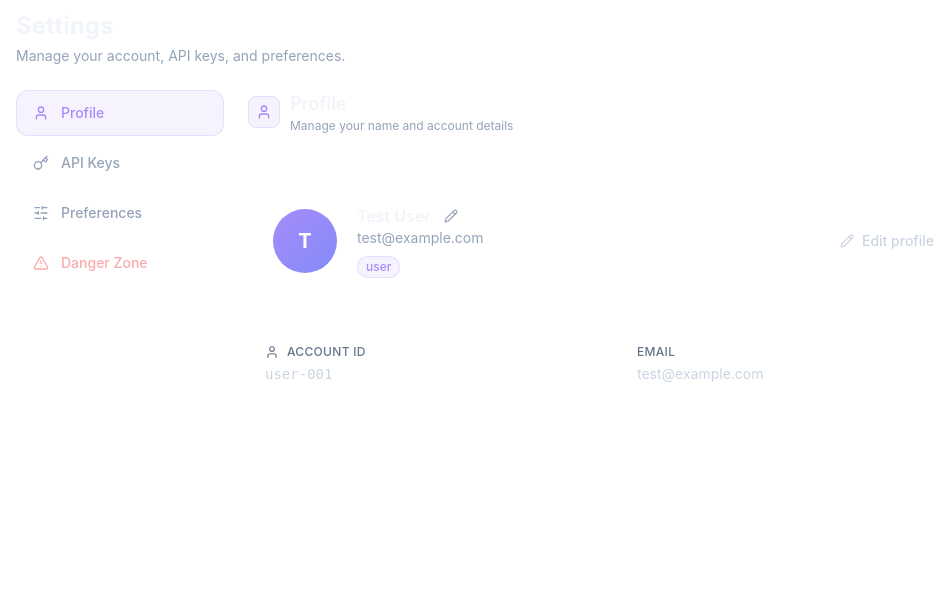
Test case: Preferences section › renders theme, page size, and notification options
The width and height of the screenshot is (951, 596).
What coordinates should you click on to do the following:
click the button "Preferences"
I would click on:
 (120, 213)
Its box is [16,190,224,236].
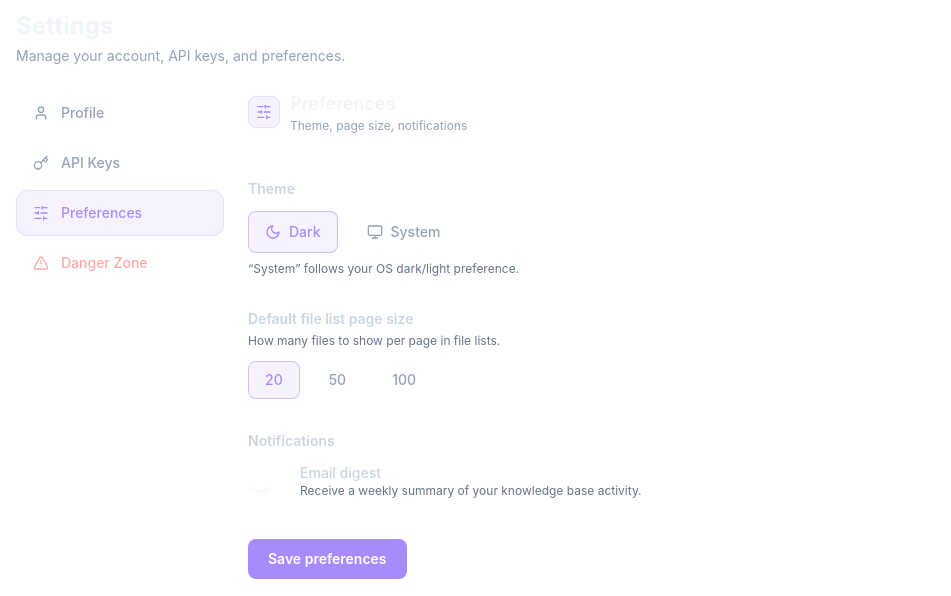
Now the button "Dark" is shown, box [248,211,338,253]
Now the button "System" is shown, box [350,211,457,253]
Now the button "20" is shown, box [248,361,300,399]
